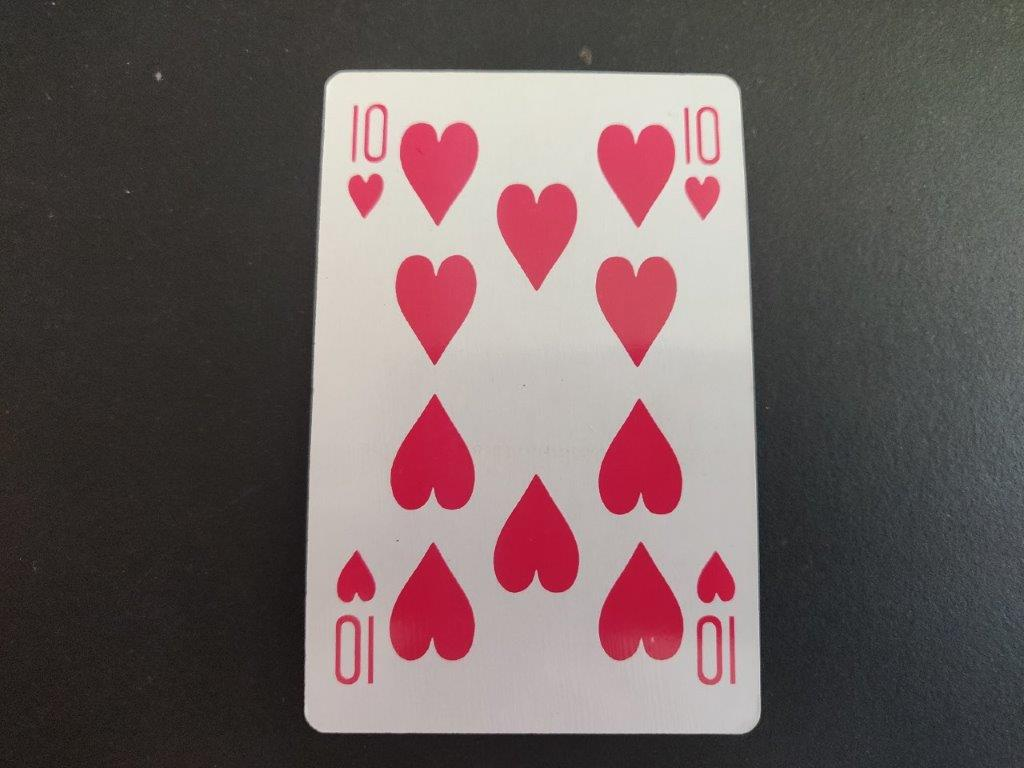10H: (340, 101, 393, 222), (681, 104, 725, 228)
